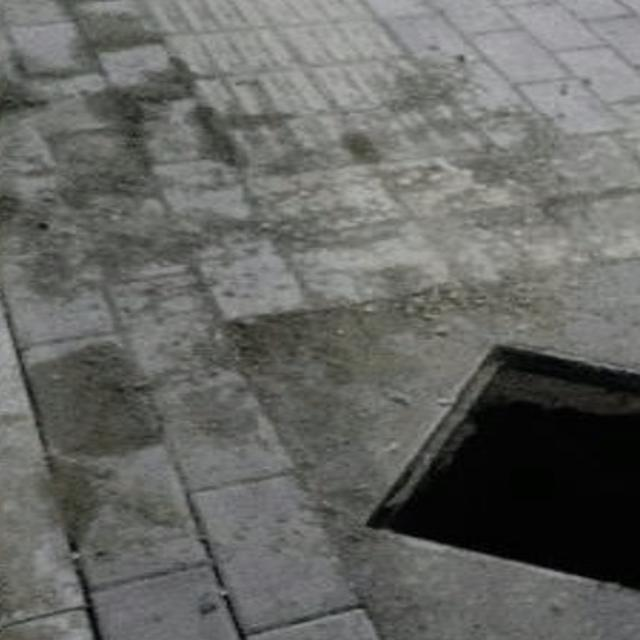lose: (330, 339, 640, 640)
